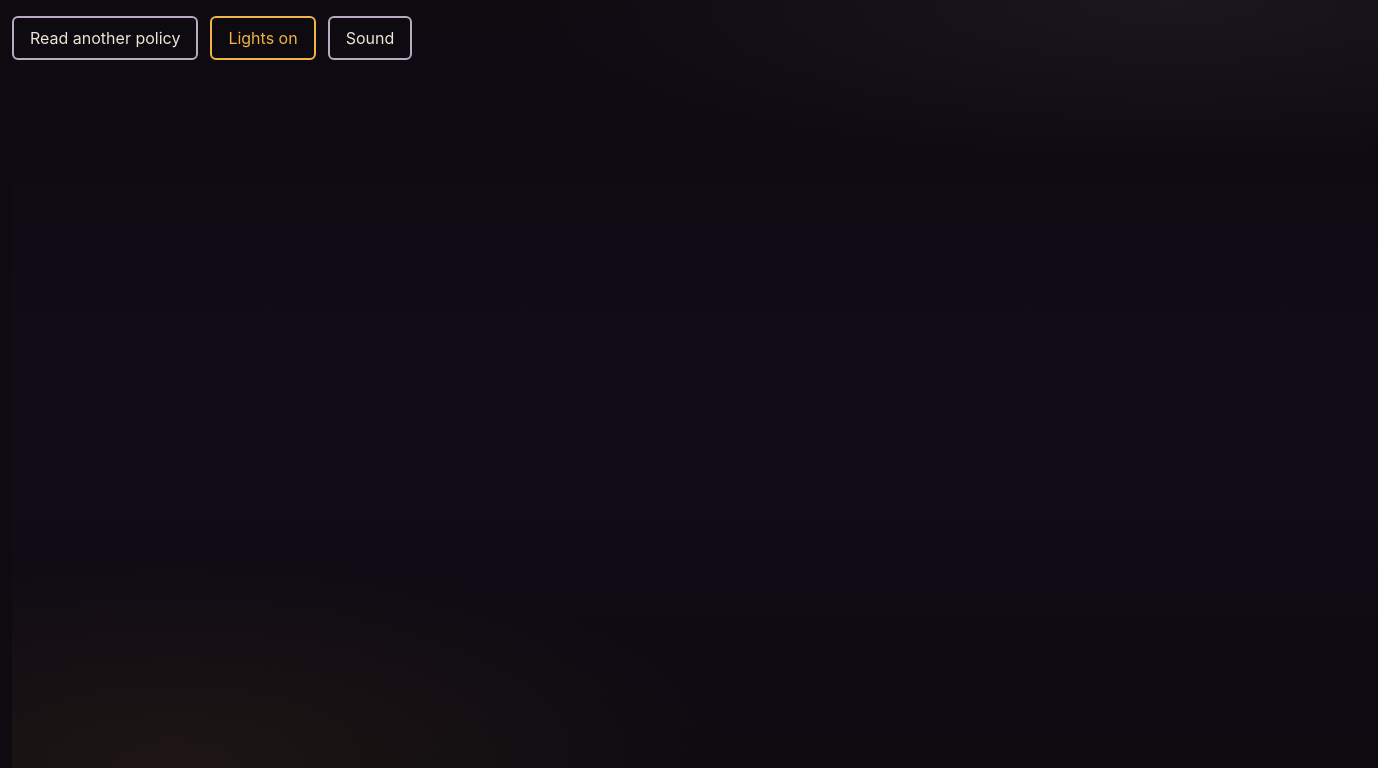
it: Toolbar (R15.3, R17.4) › has a Sound toggle third, off by default, with aria-pressed (R11.2)
Click the button "Sound": [370, 38] box [328,16,412,60]
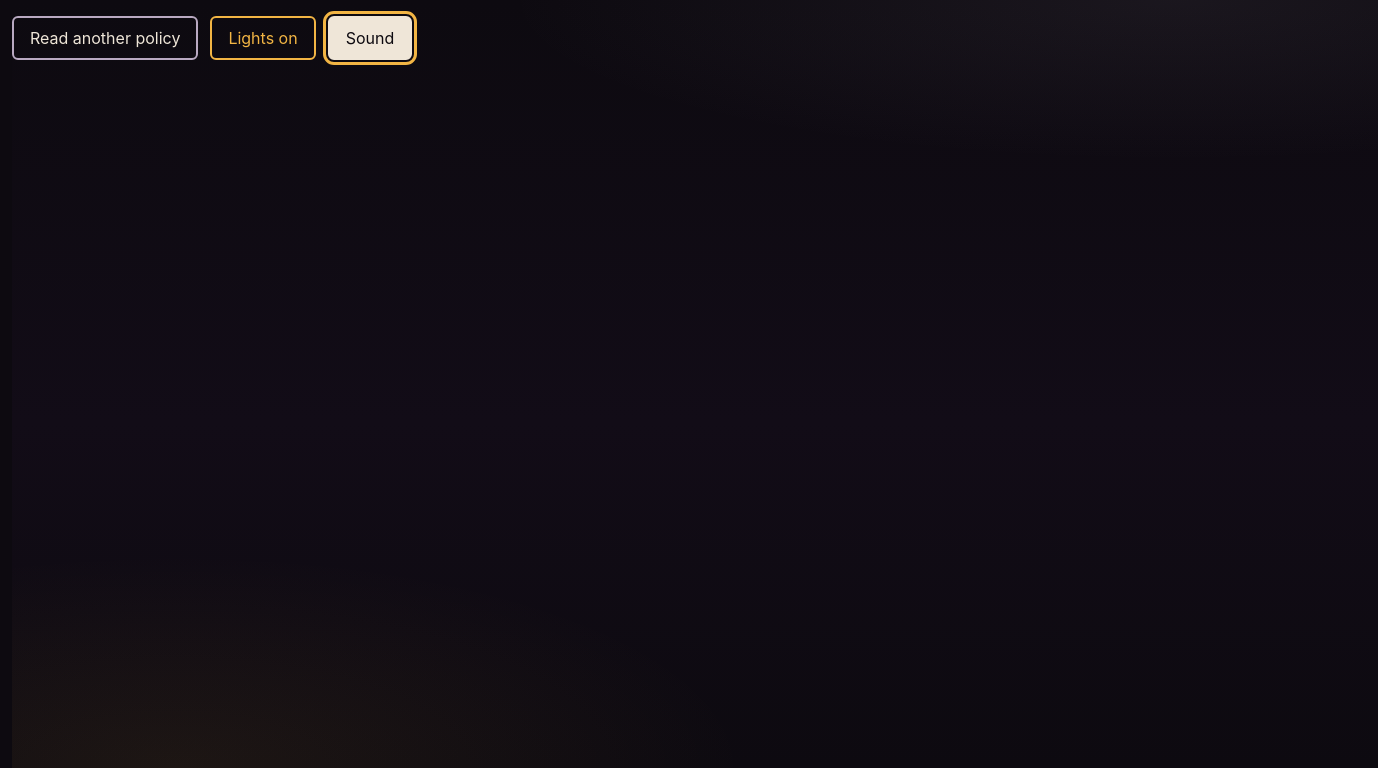
Expected: the button "Sound" is pressed, [328,16,412,60]
